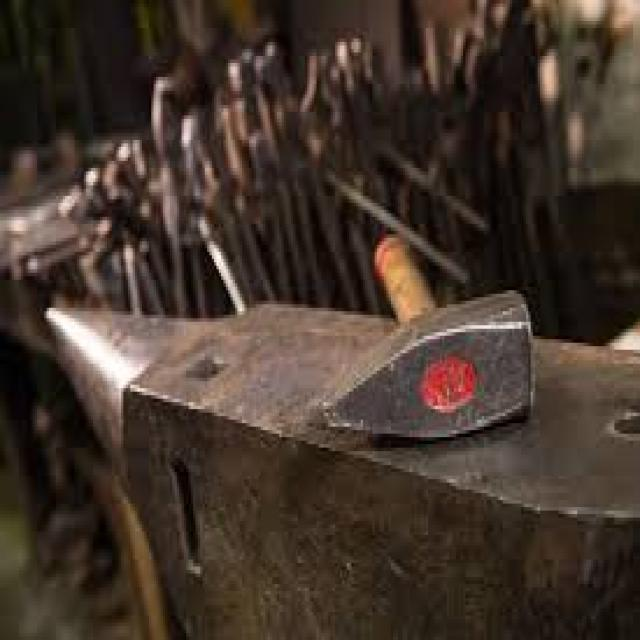hammer: (321, 224, 552, 476)
